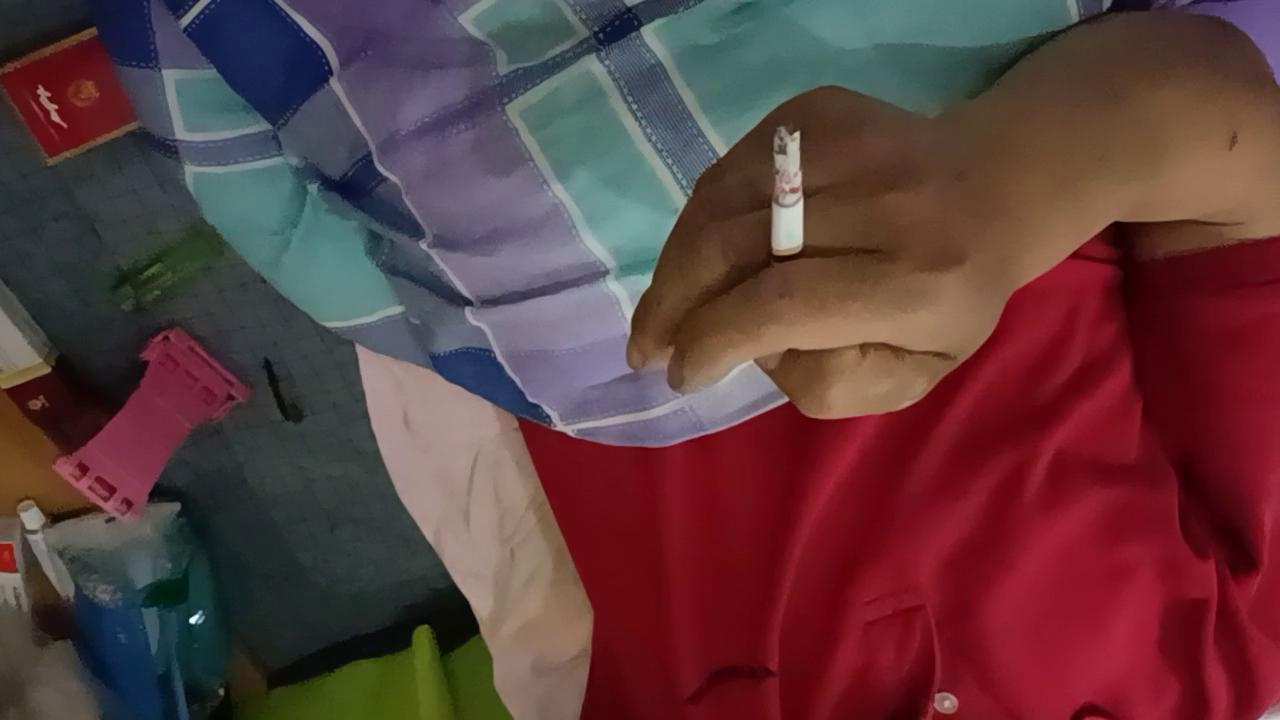smoke: (770, 124, 808, 299)
